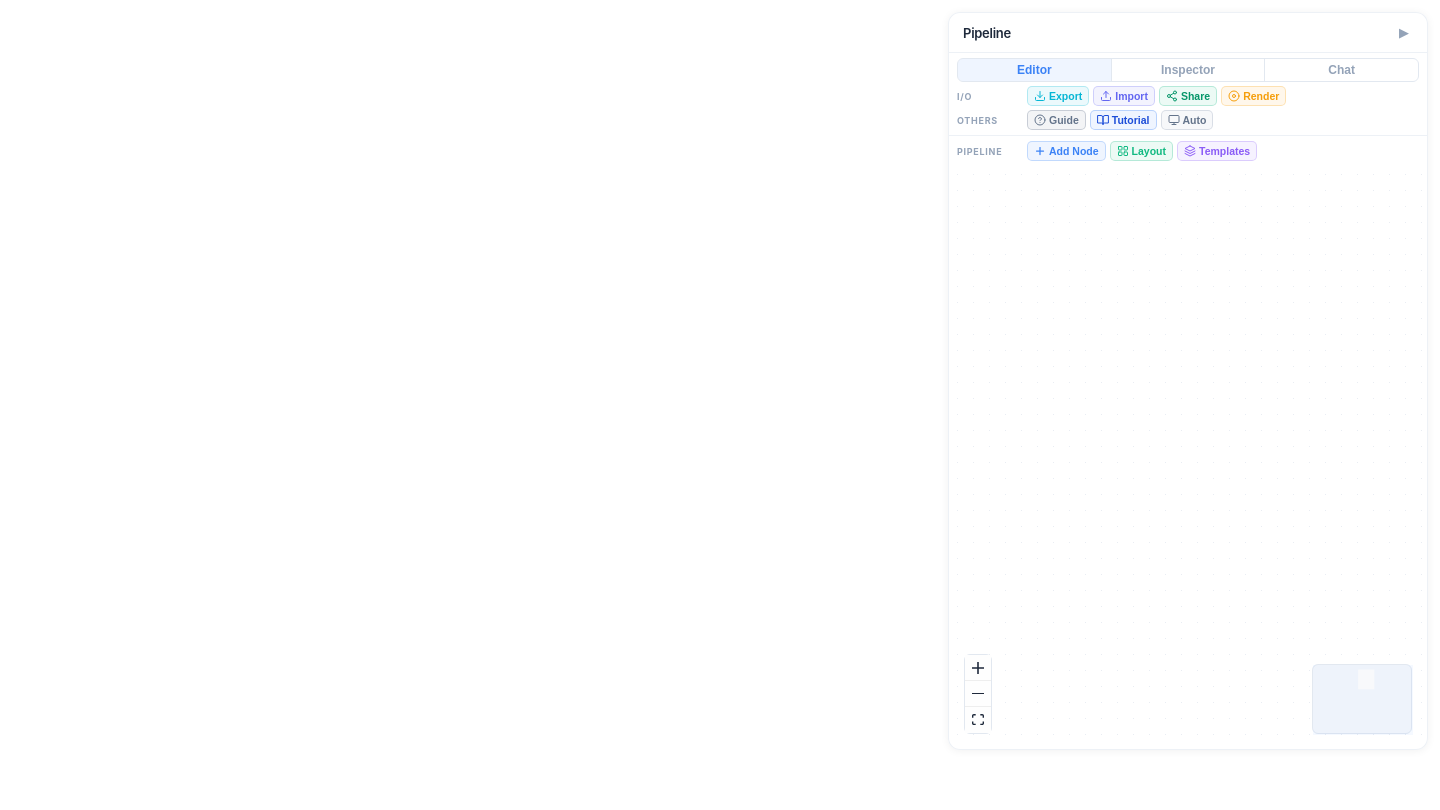
Scenario: PipelineEditor — Share button opens dialog › renders the tooLong warning and disables Copy when the pipeline is too long
Click the button with test id "pipeline-editor-share": (1188, 96) x1=1159 y1=86 x2=1217 y2=106
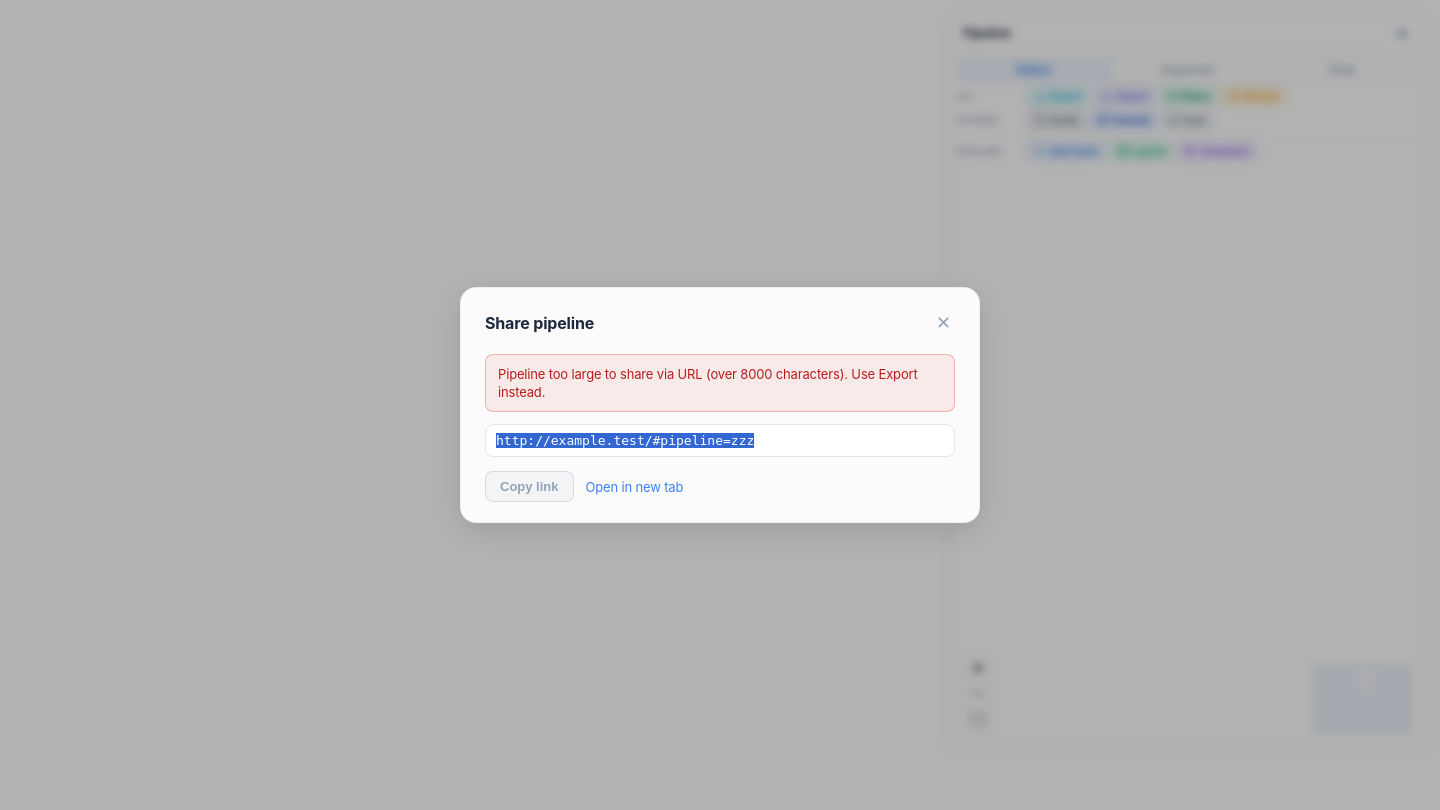
expect the text with test id "share-dialog-warning" is shown: met, box x1=485 y1=354 x2=955 y2=412
expect the button with test id "share-dialog-copy" is disabled: met, box x1=485 y1=471 x2=574 y2=502
